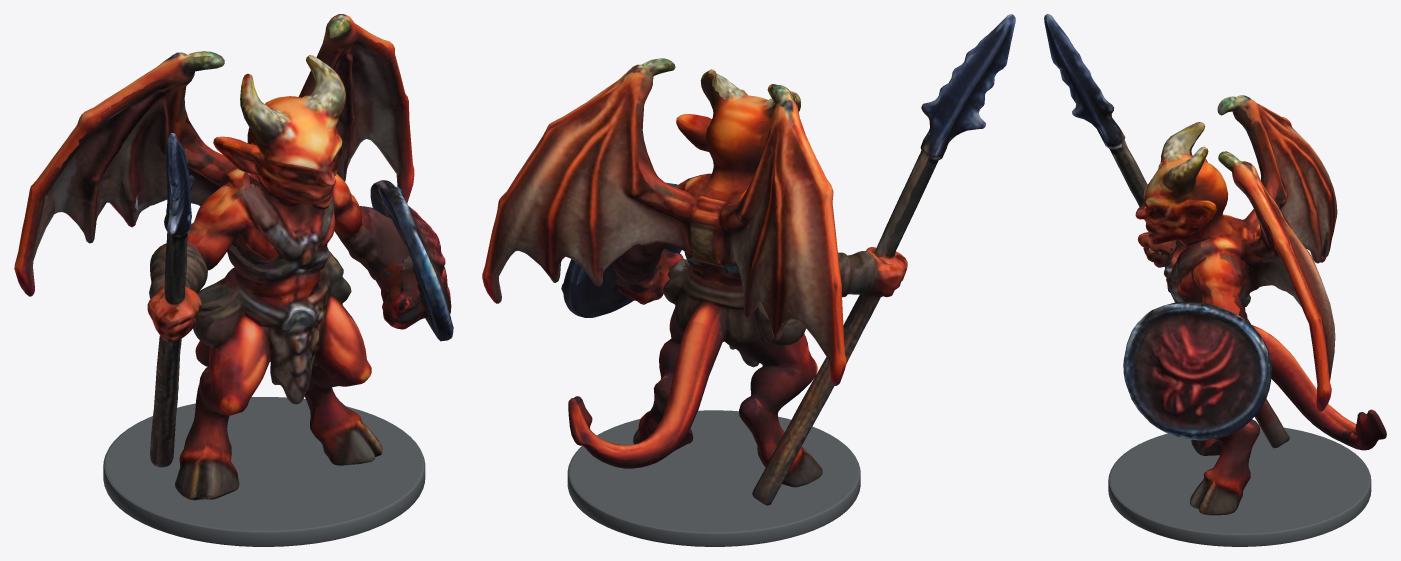
Rendered from imp.glb.
3 renders of one model, left to right at view 1: azimuth 30°, elevation 25°; view 2: azimuth 150°, elevation 25°; view 3: azimuth 270°, elevation 25°, orthographic. The views are drawn at different scales.
Parts seen in each view (by area): view 1: imp_body, imp_round_base; view 2: imp_body, imp_round_base; view 3: imp_body, imp_round_base.
Part boxes in pixels (x1=…): imp_body: x1=14, y1=14, x2=453, y2=500; imp_round_base: x1=103, y1=397, x2=425, y2=546; imp_body: x1=482, y1=14, x2=1015, y2=505; imp_round_base: x1=567, y1=410, x2=860, y2=546; imp_body: x1=1044, y1=14, x2=1386, y2=515; imp_round_base: x1=1108, y1=425, x2=1371, y2=546.
Bounding box in the file's own units: 1.49 × 1.65 × 1.3.
2 materials, 1 textured.
